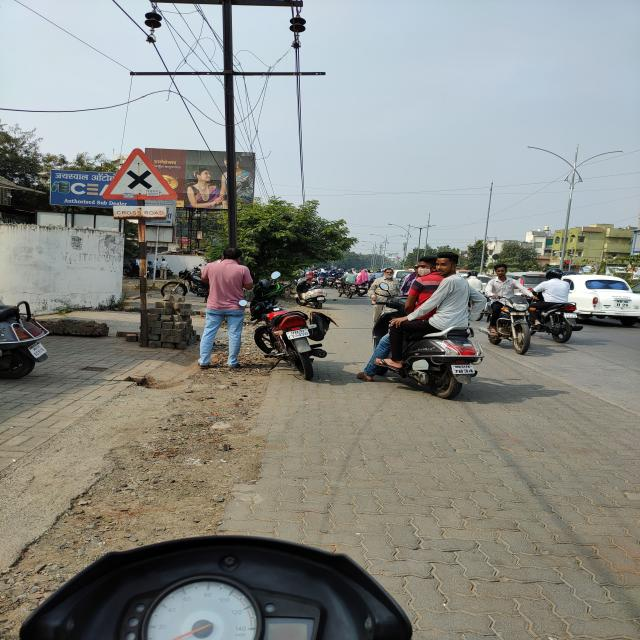cross_road: (101, 147, 180, 203)
